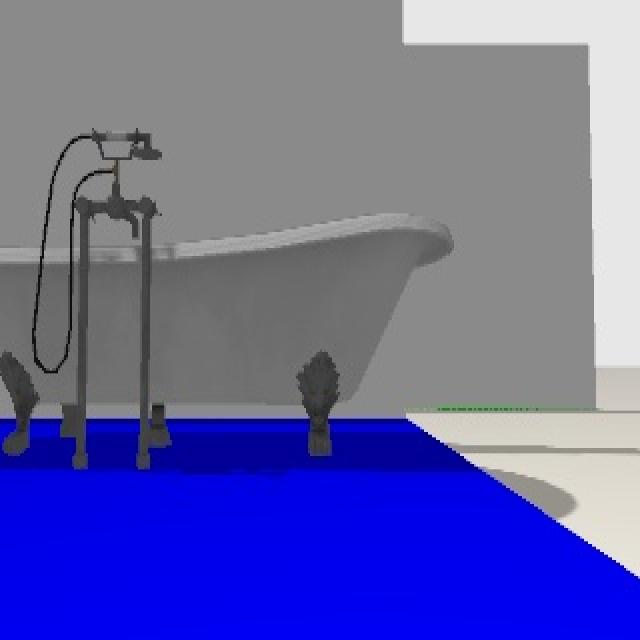bathtub: (0, 120, 458, 456)
